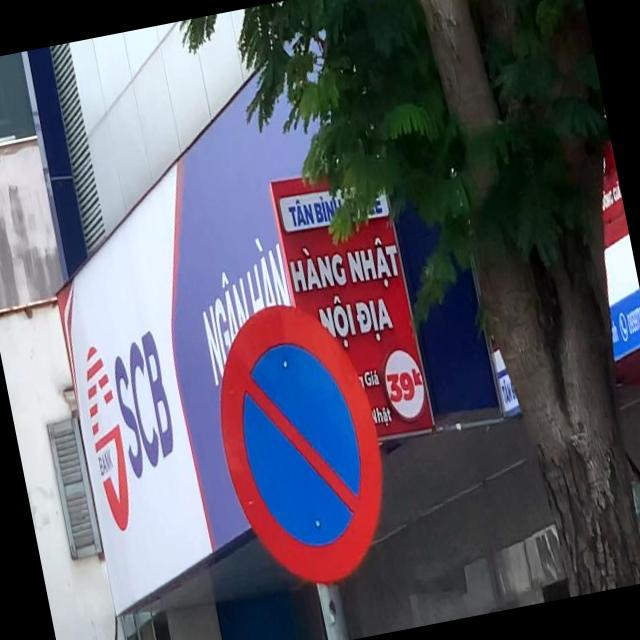P-131a: (198, 290, 402, 600)
